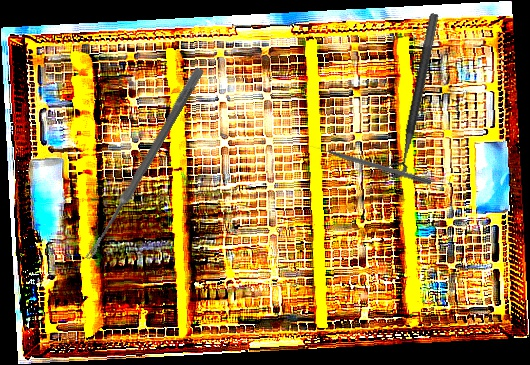Fixation Ring: (380, 9, 441, 183)
Pusher: (308, 141, 433, 186)
Surgical Spoon: (83, 65, 205, 264)
